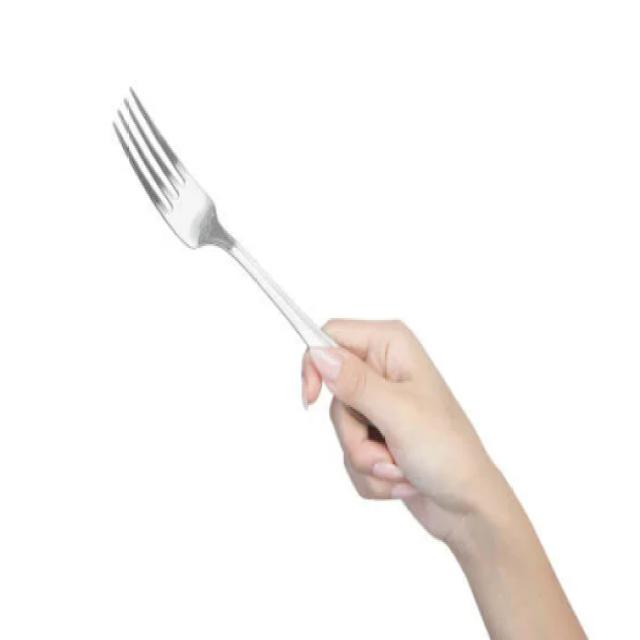fork: (112, 86, 405, 426)
